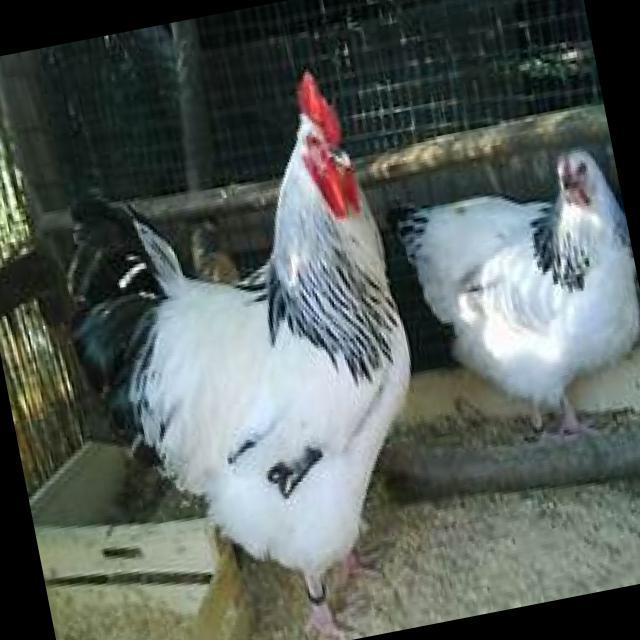chicken: (9, 75, 463, 640), (384, 115, 640, 455)
